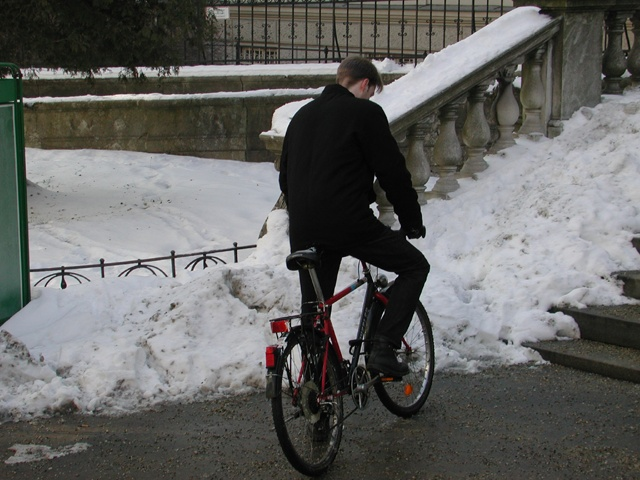person: (278, 56, 432, 441)
